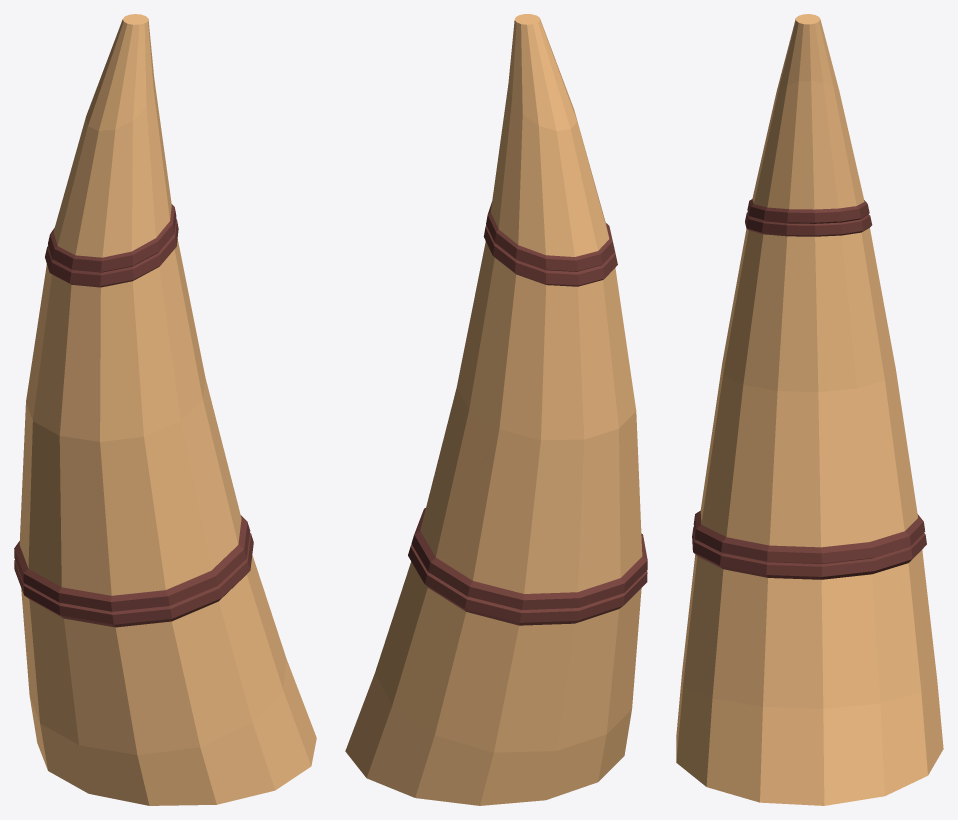
File: Tusk 06.fbx
The picture shows the model from 3 angles, left to right: view 1: azimuth 30°, elevation 25°; view 2: azimuth 150°, elevation 25°; view 3: azimuth 270°, elevation 25°; orthographic projection. The views are drawn at different scales.
Parts seen in each view (by area): view 1: Tusk 06; view 2: Tusk 06; view 3: Tusk 06.
Boxes of the visible parts, x1,y1,x2,y2 form: Tusk 06: (14, 14, 316, 805); Tusk 06: (345, 14, 647, 805); Tusk 06: (676, 14, 943, 805).
Size of the model in its own units: 102 by 268 by 91.3.
